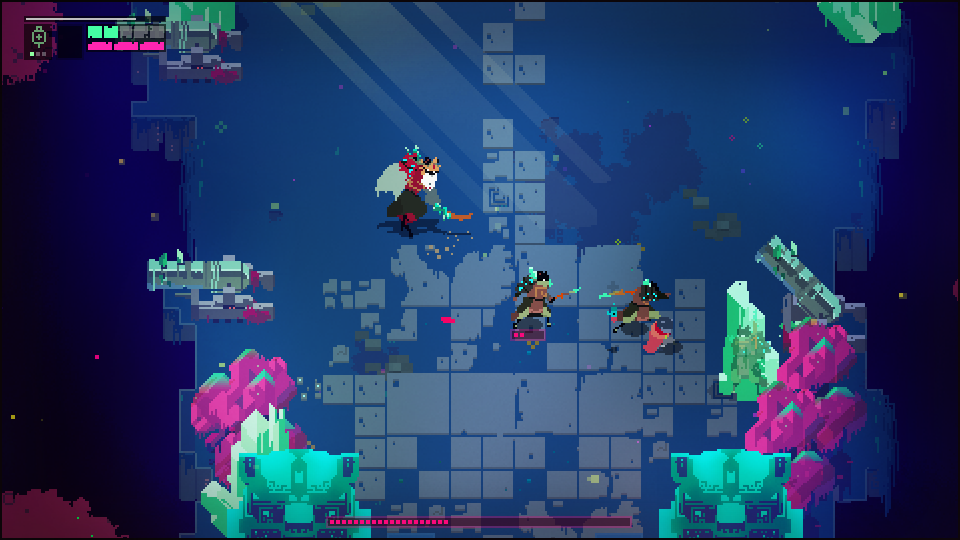hanged_man: (371, 138, 473, 235)
player: (635, 316, 678, 360)
